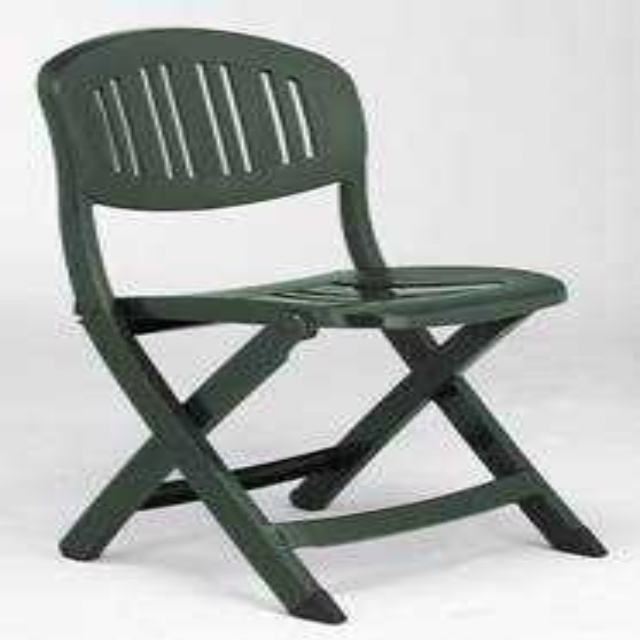obstacle: (38, 28, 602, 621)
